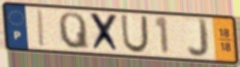1: (154, 15, 170, 57)
I: (37, 8, 47, 49)
J: (186, 17, 211, 60)
Q: (57, 11, 91, 51)
U: (120, 14, 150, 55)
X: (88, 11, 122, 54)
